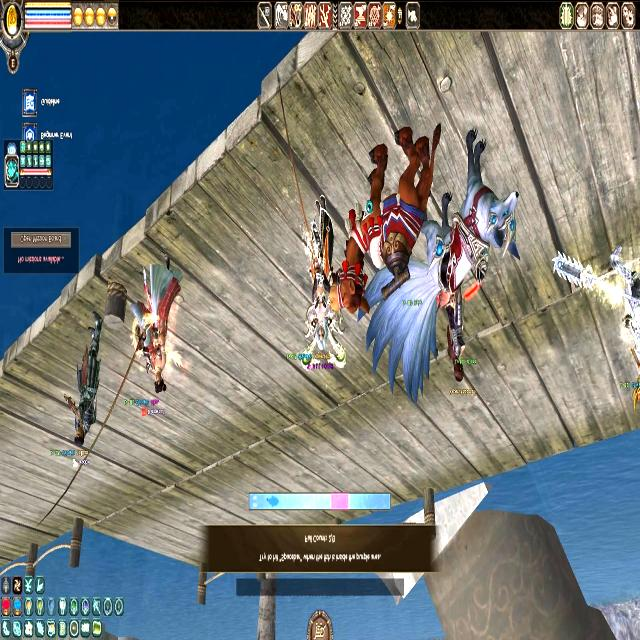fishes: (266, 495, 279, 509)
